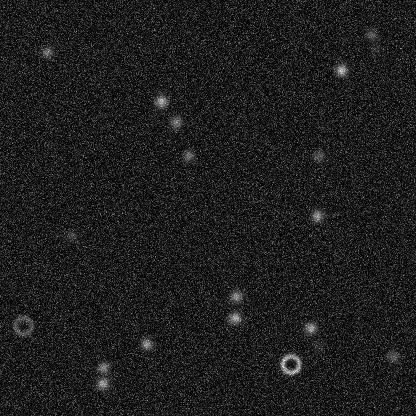Ring: (278, 352, 302, 376), (11, 313, 35, 337)
Spot: (153, 93, 169, 109), (167, 113, 183, 129), (94, 375, 110, 391), (333, 61, 349, 77), (310, 147, 326, 163), (95, 359, 111, 375), (226, 309, 242, 325), (302, 320, 318, 336), (368, 40, 384, 56), (310, 338, 326, 354), (180, 147, 196, 163), (39, 43, 55, 59), (362, 26, 378, 42), (64, 227, 80, 243), (138, 335, 154, 351), (309, 207, 325, 223), (385, 348, 401, 364), (228, 288, 244, 304)
